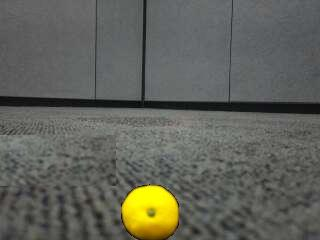Lemon: (121, 183, 183, 240)
